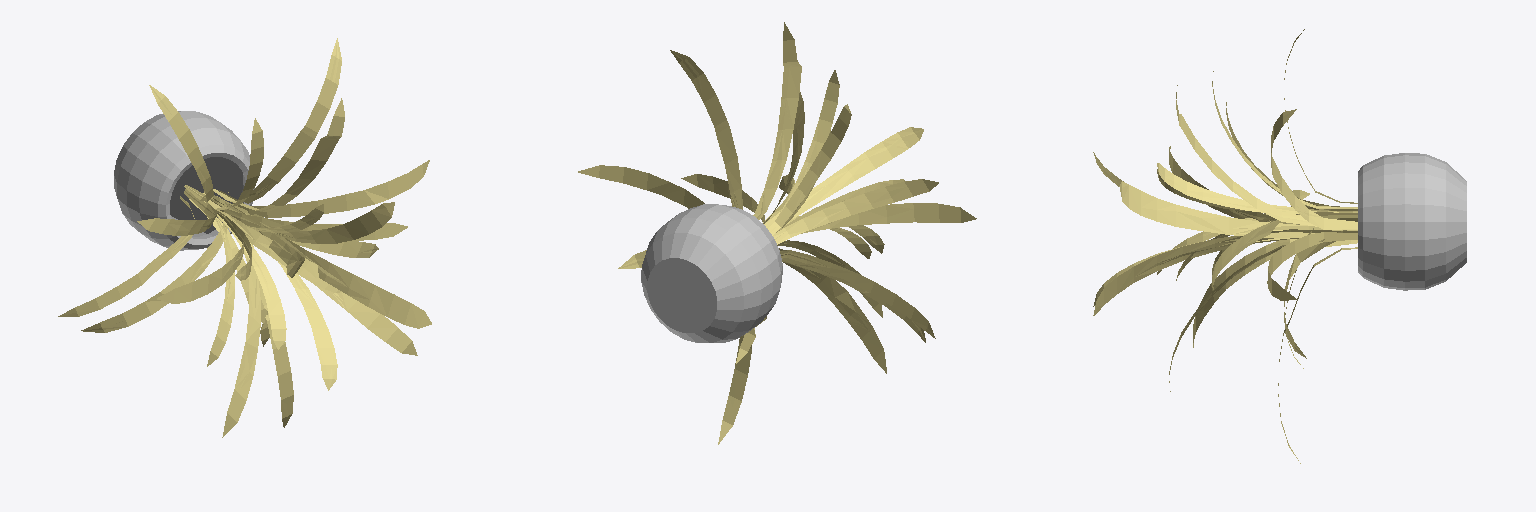
Rendered from plant2.obj.
3 views of the same model, side by side, from view 1: azimuth 30°, elevation 25°; view 2: azimuth 150°, elevation 25°; view 3: azimuth 270°, elevation 25° (orthographic).
Visible parts, largest first — view 1: plant2; view 2: plant2; view 3: plant2.
Boxes of the visible parts, x1,y1,x2,y2 form: plant2: [58, 38, 431, 437]; plant2: [578, 22, 976, 444]; plant2: [1093, 29, 1466, 463].
Bounding box in the file's own units: 42.88 × 42.66 × 37.86.